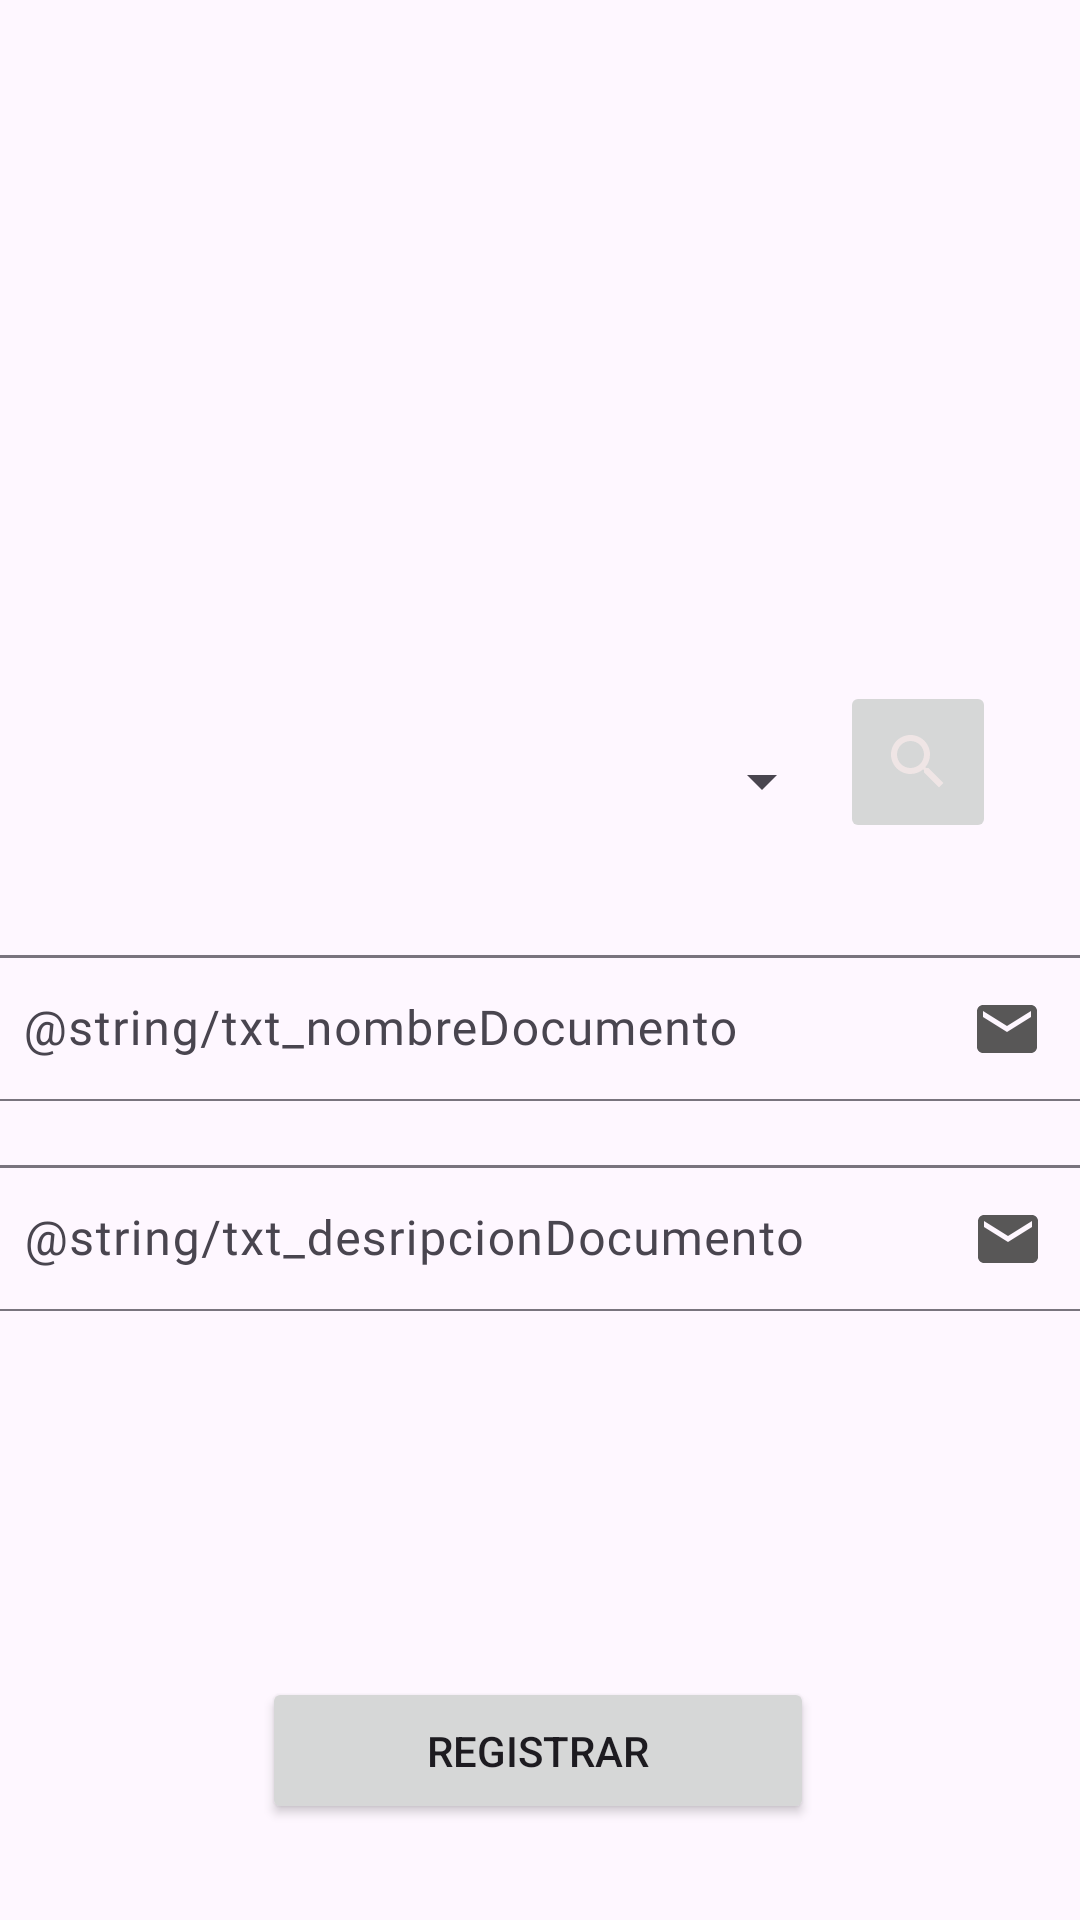

Where icons sit on this 1080px x 1920px app screen, as [x1=x1, y1=y1, x2=x2, y2=y2]:
search: [x1=852, y1=699, x2=984, y2=825]
